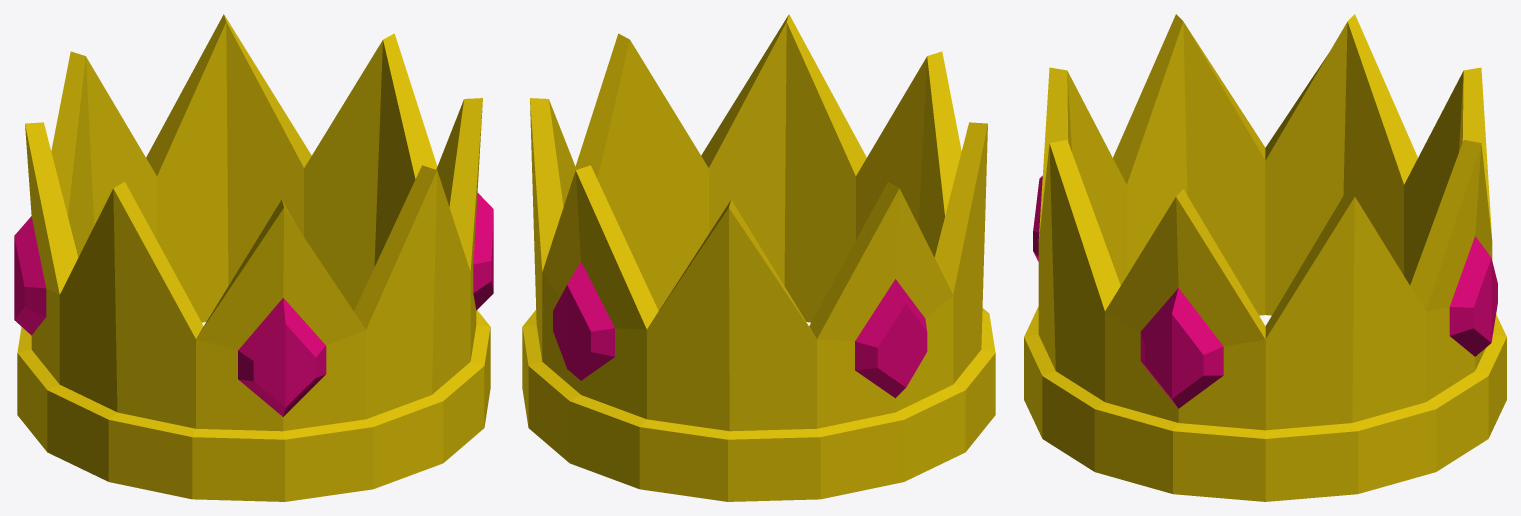
File: Crown.fbx
The picture shows the model from 3 angles, left to right: view 1: azimuth 30°, elevation 25°; view 2: azimuth 150°, elevation 25°; view 3: azimuth 270°, elevation 25°; orthographic projection.
Visible parts, largest first — view 1: Cylinder; view 2: Cylinder; view 3: Cylinder.
Boxes of the visible parts, x1,y1,x2,y2 form: Cylinder: [14, 14, 493, 501]; Cylinder: [522, 14, 995, 501]; Cylinder: [1024, 14, 1506, 501].
Bounding box in the file's own units: 85.11 × 57.33 × 85.11.
